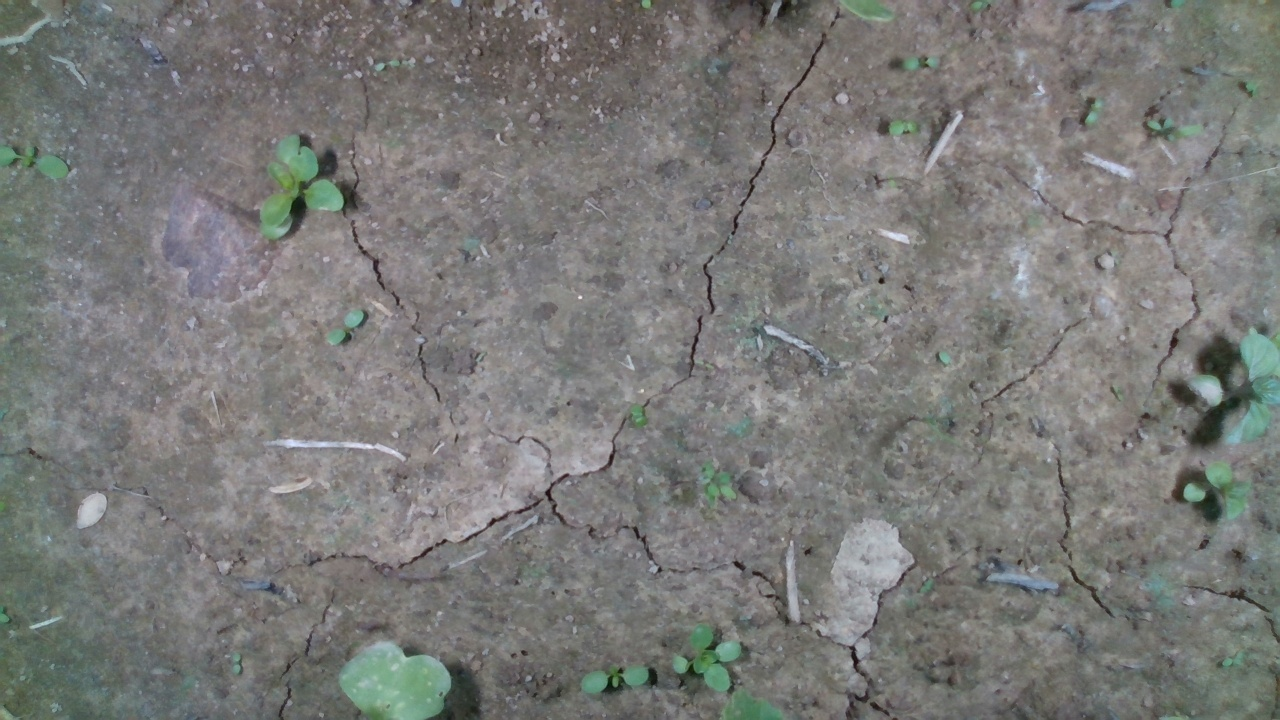weed: (578, 661, 651, 696), (321, 307, 364, 350), (1144, 114, 1178, 141), (1081, 96, 1104, 131), (902, 53, 945, 70), (629, 401, 647, 428)
